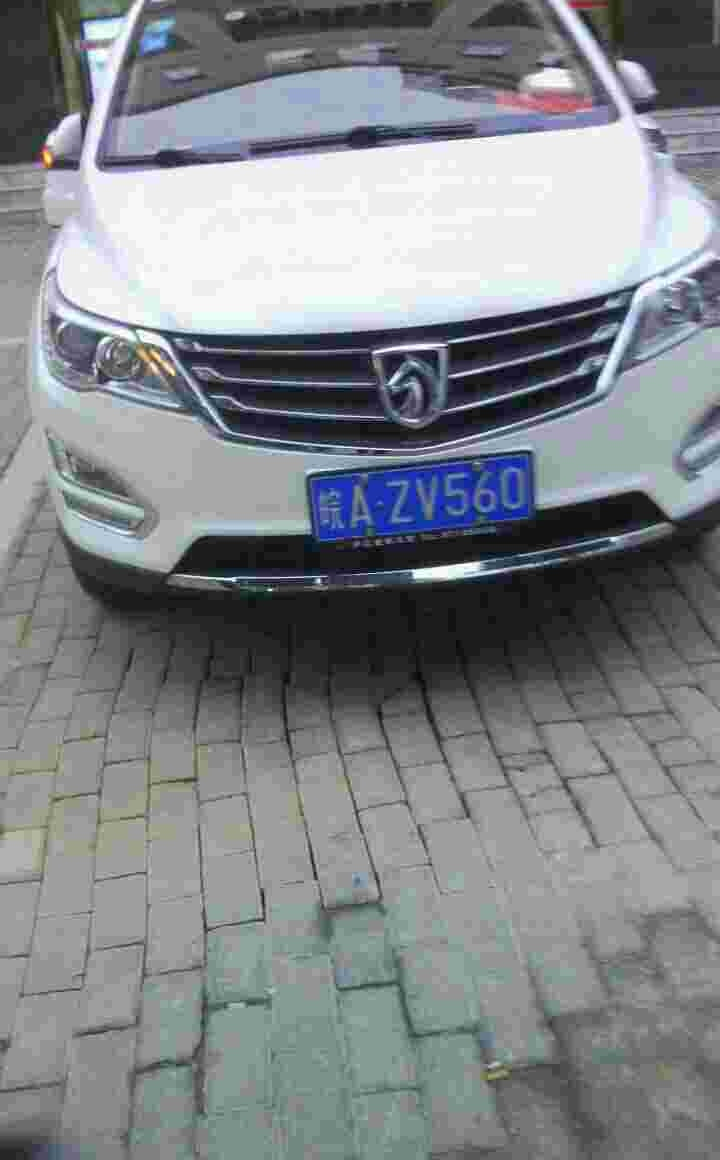license_plate: (314, 457, 527, 543)
